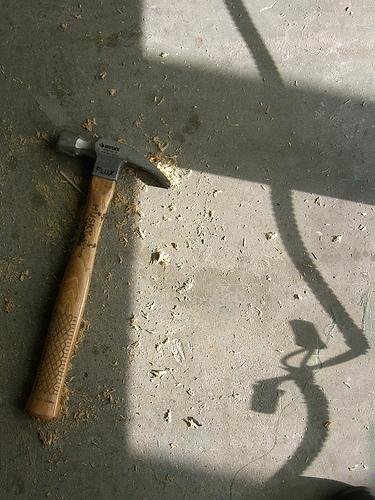hammer: (23, 128, 171, 419)
